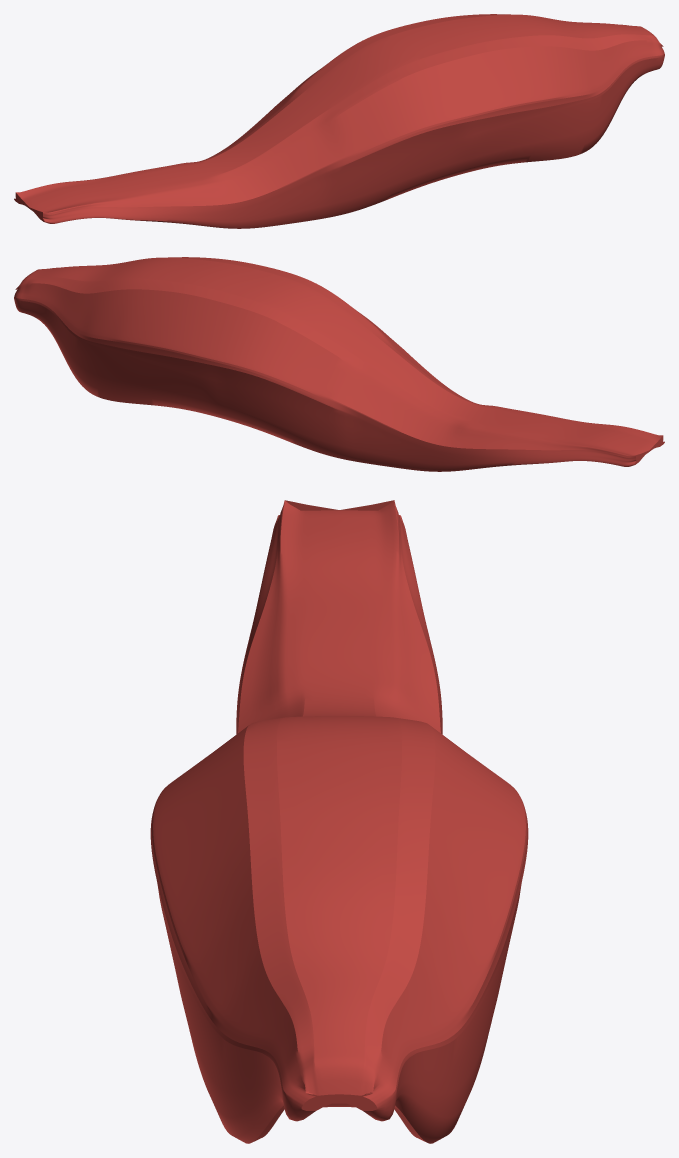
The model's file is adventure_4.glb.
The picture shows the model from 3 angles, top to bottom: view 1: azimuth 30°, elevation 25°; view 2: azimuth 150°, elevation 25°; view 3: azimuth 270°, elevation 25°; orthographic projection. The views are drawn at different scales.
Visible parts, largest first — view 1: adventure_4; view 2: adventure_4; view 3: adventure_4.
Boxes of the visible parts, x1=… form: adventure_4: x1=14, y1=14, x2=664, y2=228; adventure_4: x1=14, y1=257, x2=664, y2=471; adventure_4: x1=150, y1=500, x2=528, y2=1143.
Bounding box in the file's own units: 1.7 × 0.3305 × 0.443.
